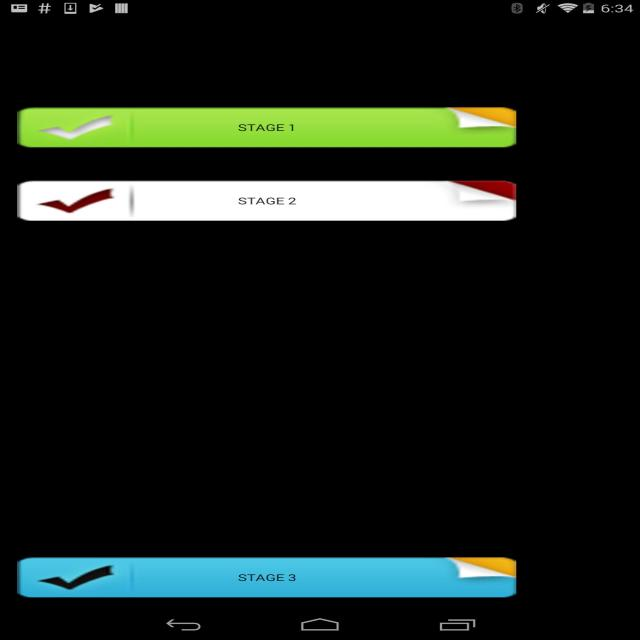button: (17, 181, 515, 222), (21, 107, 514, 147), (21, 558, 516, 596)
